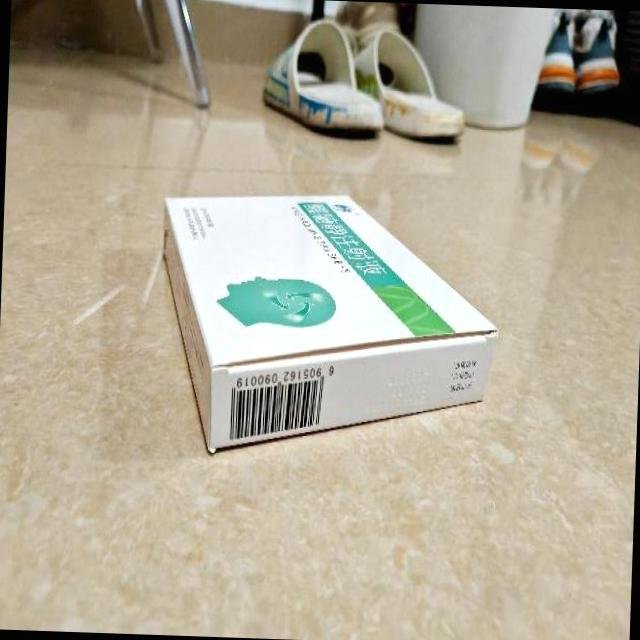box: (156, 188, 504, 461)
